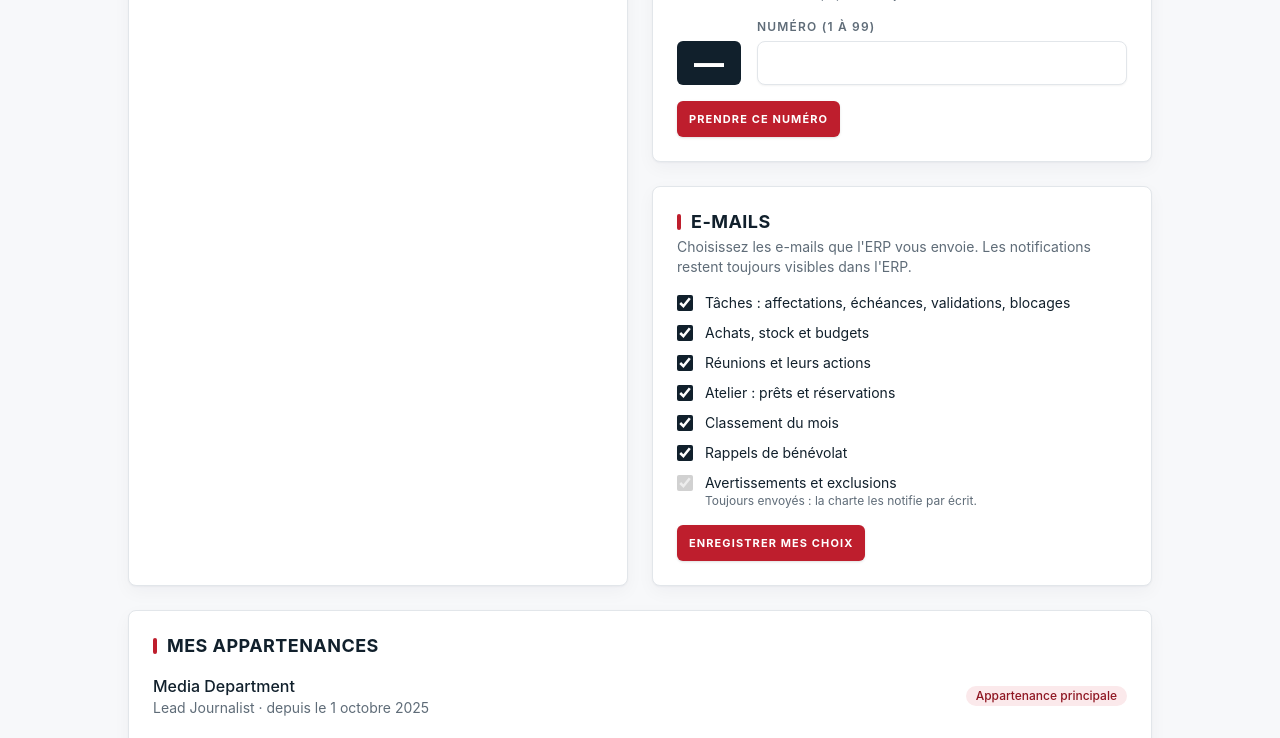
Scenario: ProfileView › lets the member turn off e-mails by subject, never the warnings
The width and height of the screenshot is (1280, 738).
(page scrolled)
Expected: the checkbox labelled "Avertissements et exclusions" is disabled, [677,475,693,491]
Step 1. Click the checkbox labelled "Atelier : prêts et réservations" → (685, 393), box [677,385,693,401]
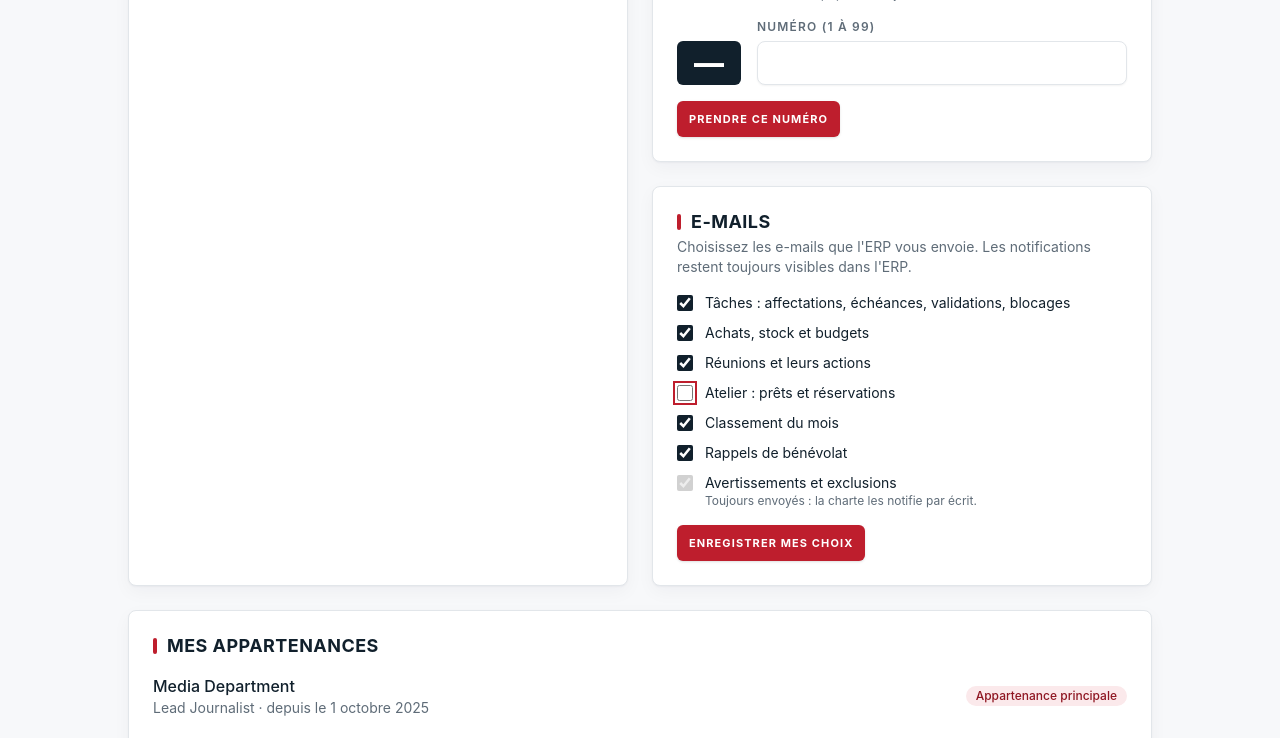
Step 2. Click the checkbox labelled "Classement du mois" → (685, 423), box [677,415,693,431]
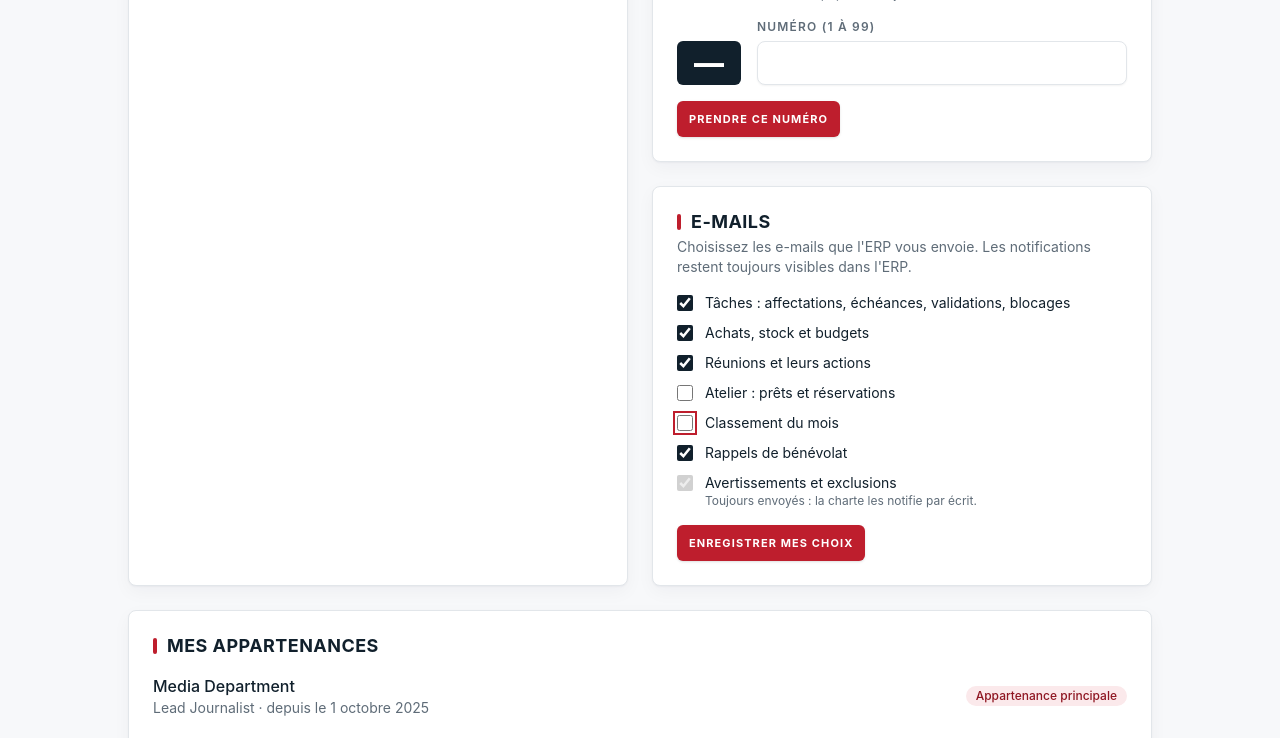
Step 3. Click the button "Enregistrer mes choix" → (771, 543), box [677,525,865,561]
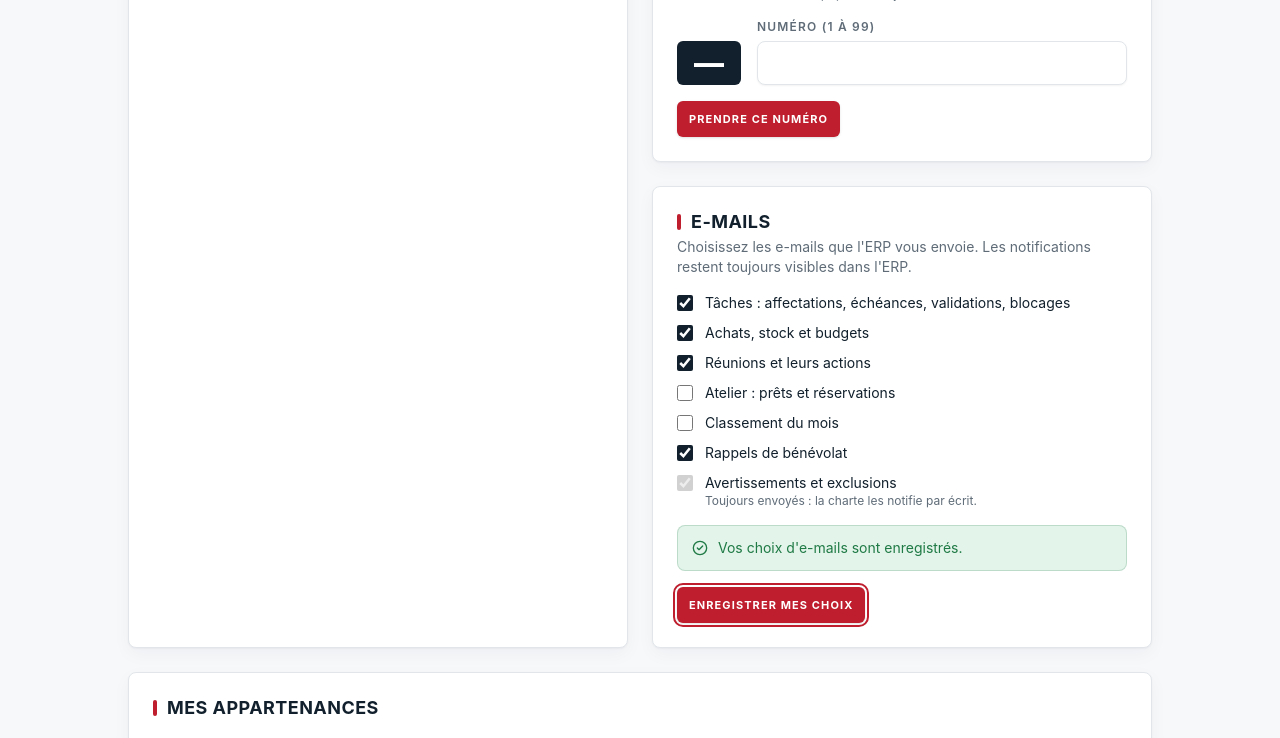
Expected: the text "Vos choix d'e-mails sont enregistrés." is shown, [718,538,962,558]
